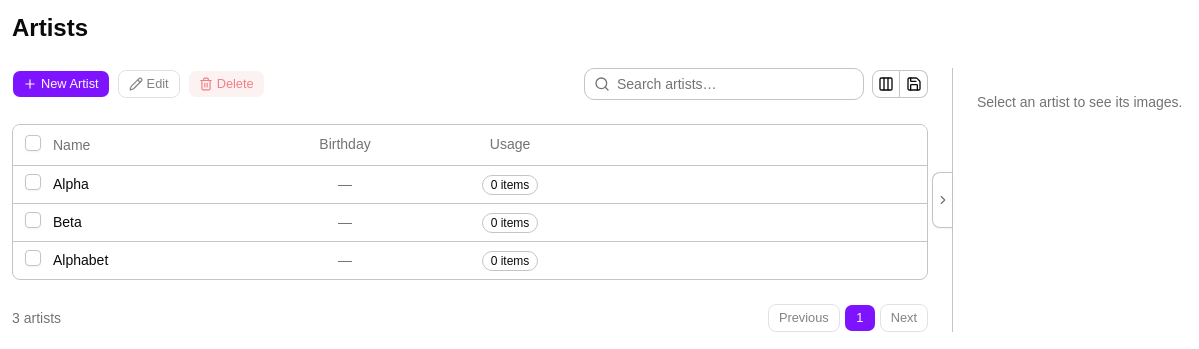
Test: ArtistsPage table › filters by name when searching
Expected: the text "Alpha" is shown, left=45, top=165, right=245, bottom=203
Type "ALPHA" into the field with placeholder "Search artists…".
click(724, 84); type("ALPHA")  # box left=584, top=68, right=864, bottom=100
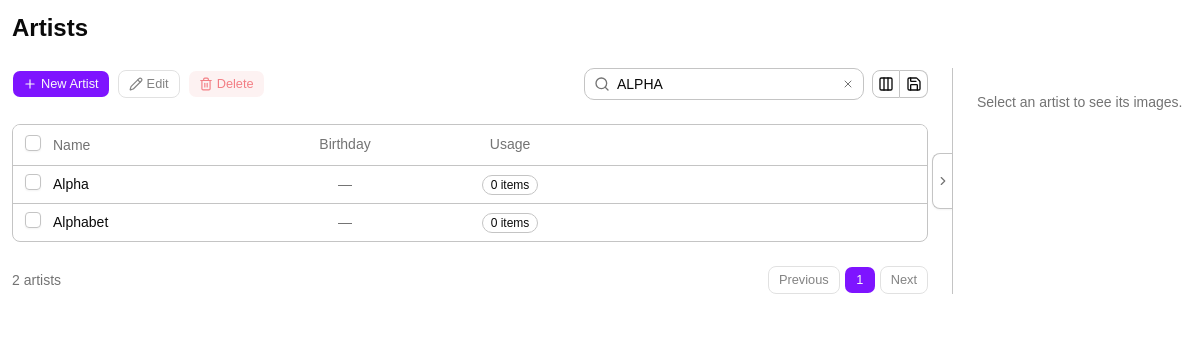
Expected: the text "Alpha" is shown, left=45, top=165, right=245, bottom=203
Expected: the text "Beta" is gone
Expected: the text "2 artists" is shown, left=12, top=270, right=61, bottom=290
